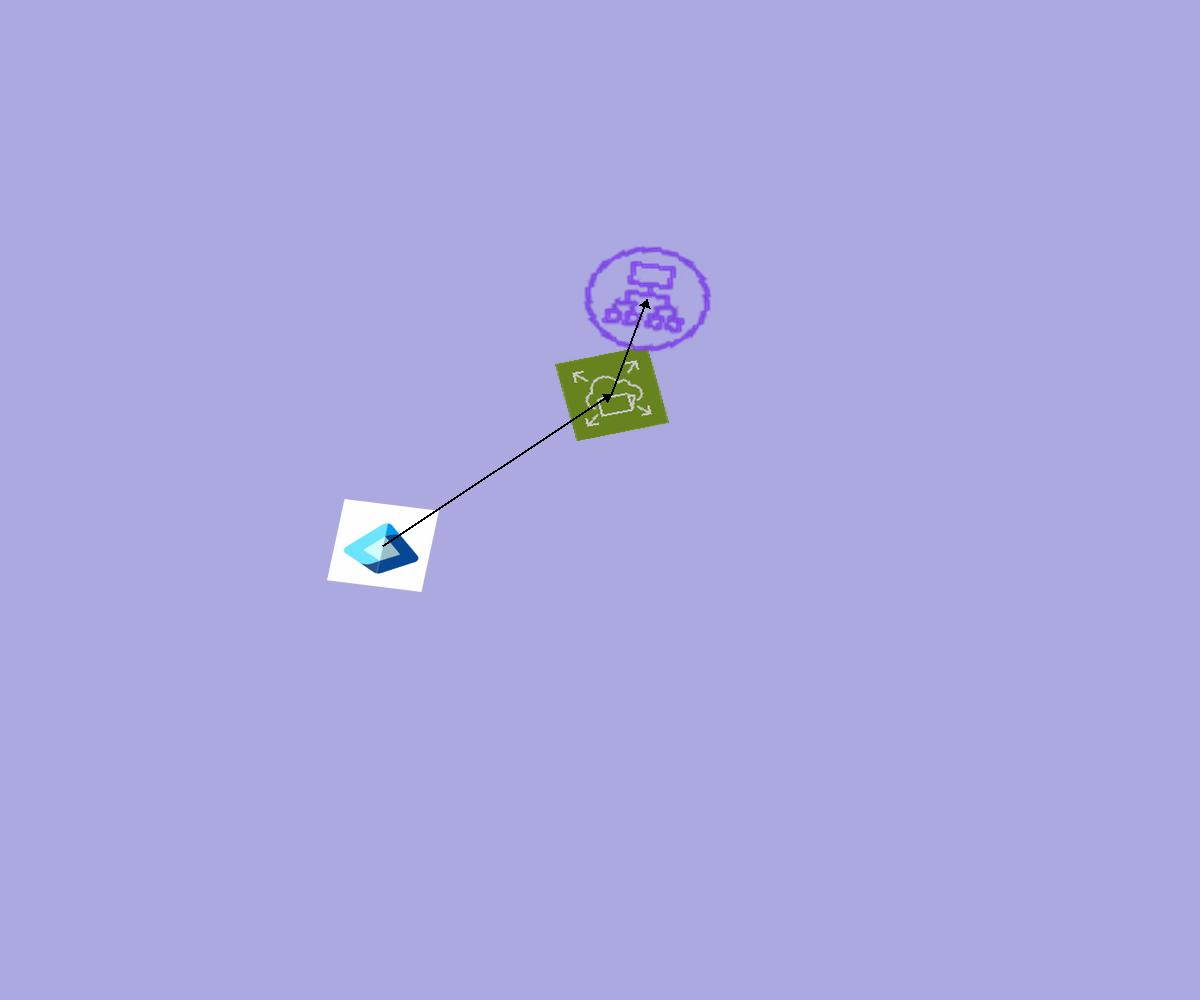AWS-EFS: (554, 345, 670, 442)
AWS-Res_Elastic-Load-Balancing_Application-Load-Balancer: (568, 233, 727, 365)
Azure_microsoft_entra: (327, 499, 439, 592)
